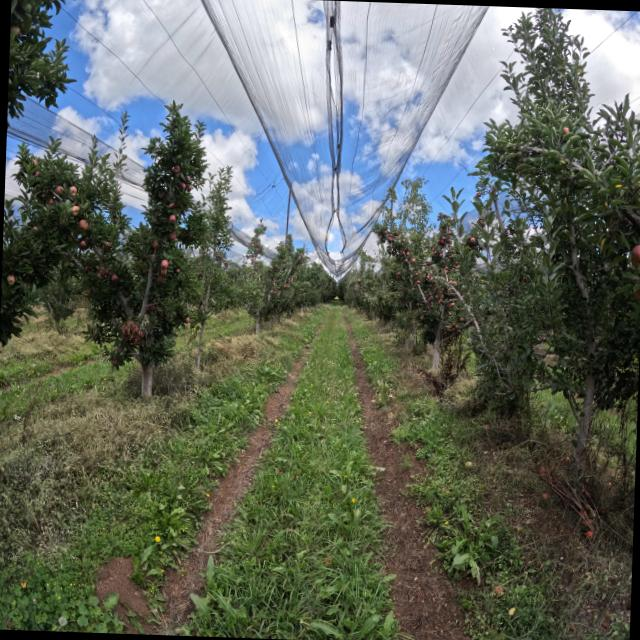-FireBlight-: (119, 320, 142, 345)
